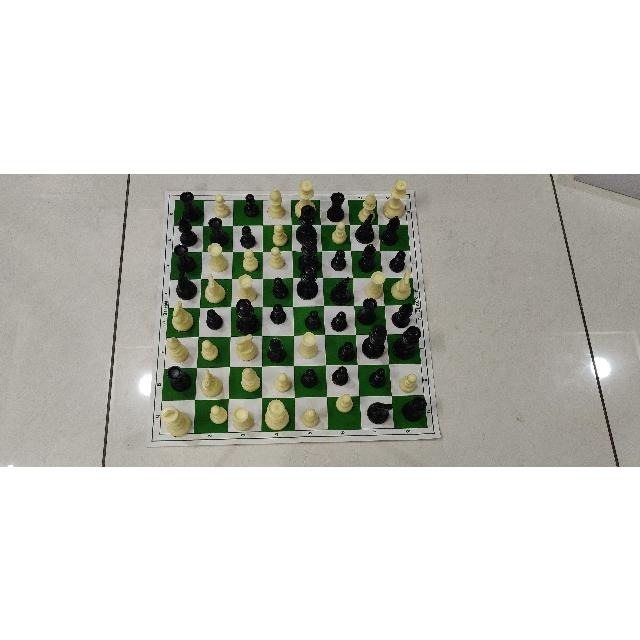black-bishop: (380, 214, 401, 245), (178, 215, 198, 246), (357, 242, 377, 272), (390, 301, 413, 327), (266, 336, 288, 363)
black-king: (295, 203, 319, 244), (361, 323, 387, 359), (297, 233, 320, 272)
black-knight: (353, 211, 376, 243), (176, 266, 198, 299), (329, 275, 352, 304), (366, 400, 393, 423)
black-pawn: (329, 308, 349, 333), (330, 247, 348, 271), (243, 192, 260, 217), (269, 301, 287, 324), (368, 368, 388, 388), (272, 276, 290, 298), (205, 308, 223, 329), (304, 308, 322, 329), (337, 340, 355, 361), (389, 250, 406, 272), (240, 224, 256, 247), (331, 365, 349, 385), (300, 368, 318, 388)
black-queen: (392, 324, 422, 359), (235, 297, 260, 335), (296, 261, 319, 300)
black-rook: (179, 190, 202, 221), (172, 243, 195, 273), (166, 365, 192, 391), (402, 396, 428, 422), (326, 190, 346, 221), (208, 216, 228, 246), (356, 297, 377, 325)
white-bishop: (358, 190, 378, 223), (166, 336, 190, 362), (239, 365, 263, 391), (266, 187, 285, 219)
white-king: (159, 405, 192, 437)
white-knight: (171, 299, 194, 331), (234, 333, 260, 361), (203, 271, 226, 302), (200, 368, 224, 397), (391, 268, 411, 299)
white-pawn: (199, 337, 221, 360), (272, 370, 294, 393), (330, 218, 348, 243), (241, 247, 259, 271), (213, 193, 230, 217), (271, 222, 288, 246), (209, 404, 229, 424), (268, 246, 285, 269), (399, 373, 417, 393), (301, 407, 319, 427), (336, 393, 354, 413)
white-queen: (382, 177, 408, 219), (293, 177, 319, 218), (263, 397, 290, 430)
white-rook: (363, 269, 386, 301), (207, 240, 230, 271), (205, 240, 228, 270), (365, 269, 386, 299), (232, 405, 254, 431), (298, 331, 318, 359), (238, 273, 258, 301)
